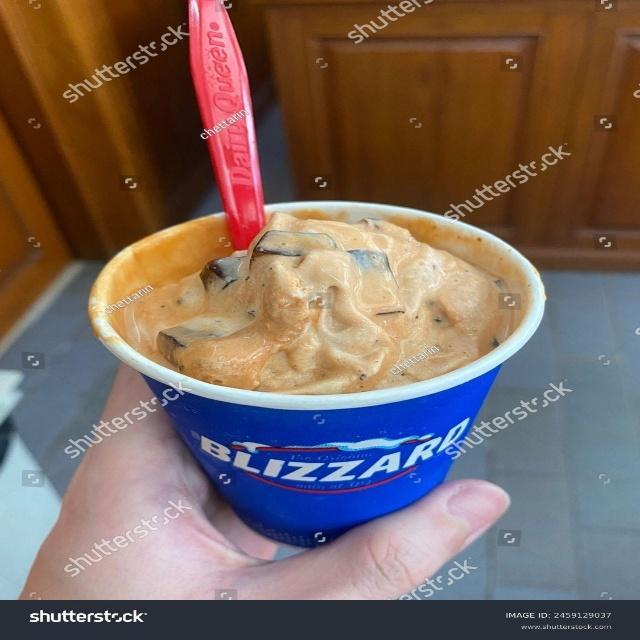paper_cup: (9, 147, 595, 568)
